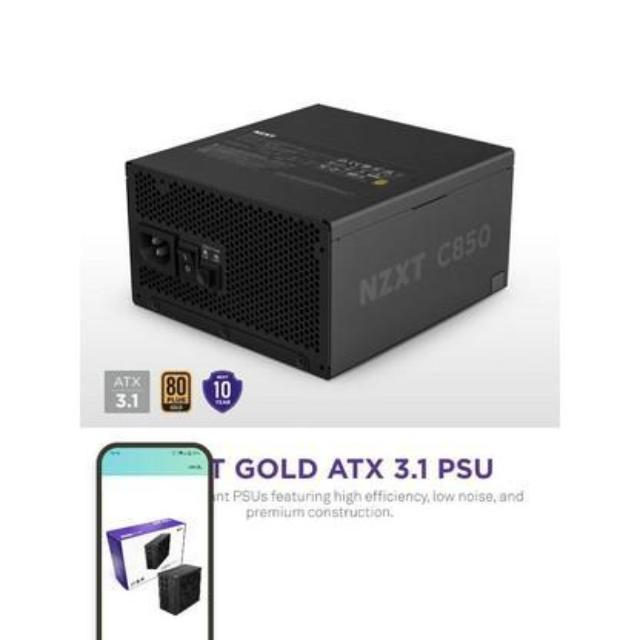PSU: (102, 89, 538, 386)
